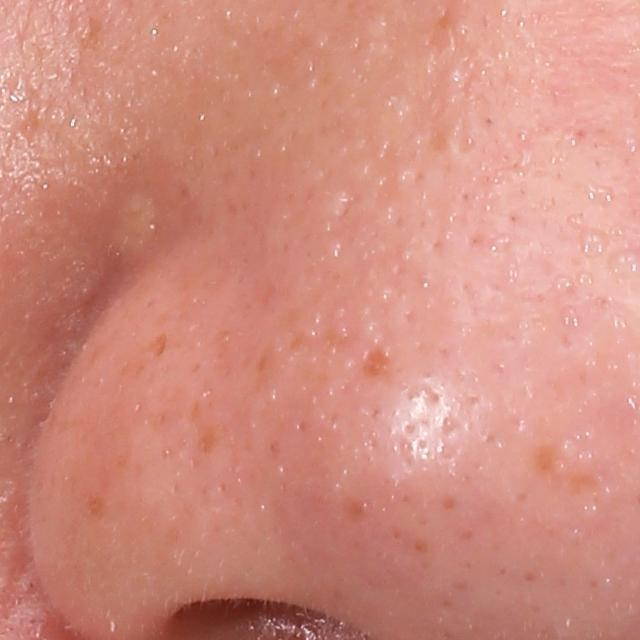hypertrophic_scar: (102, 179, 169, 267)
melasma: (526, 435, 569, 478), (356, 342, 396, 385), (192, 421, 224, 461), (339, 493, 377, 524), (79, 488, 114, 521), (144, 329, 171, 363)
